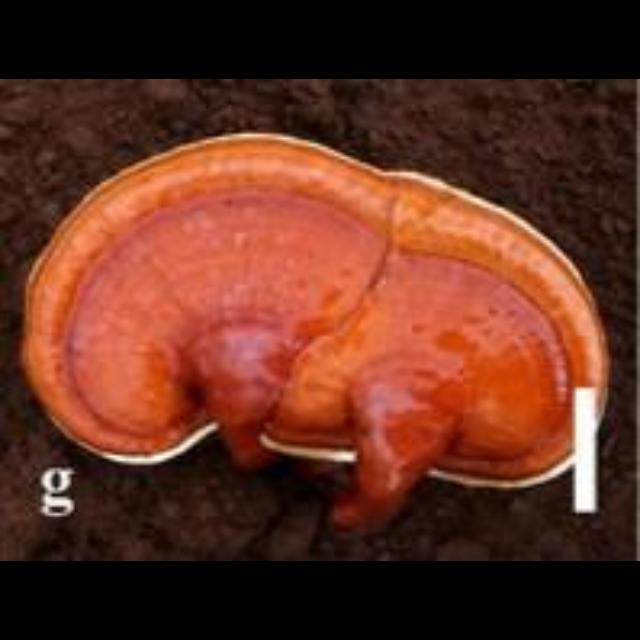ganoderma: (21, 131, 612, 494)
